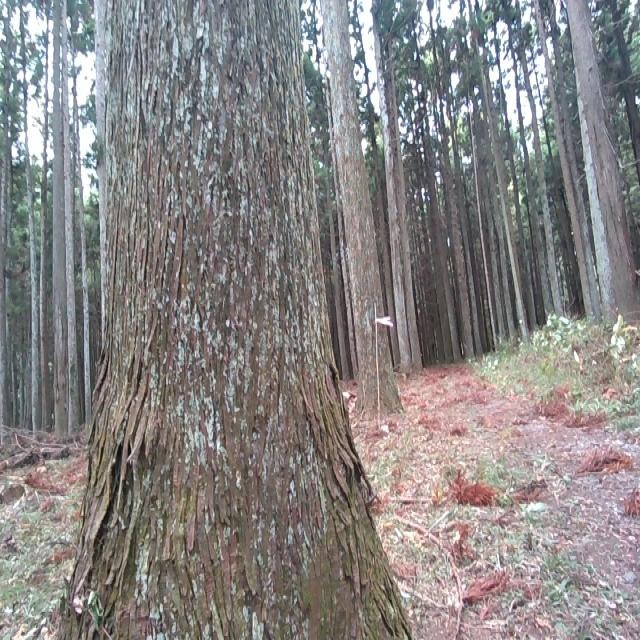tree: (64, 3, 412, 640), (320, 0, 409, 421), (564, 0, 640, 327)
